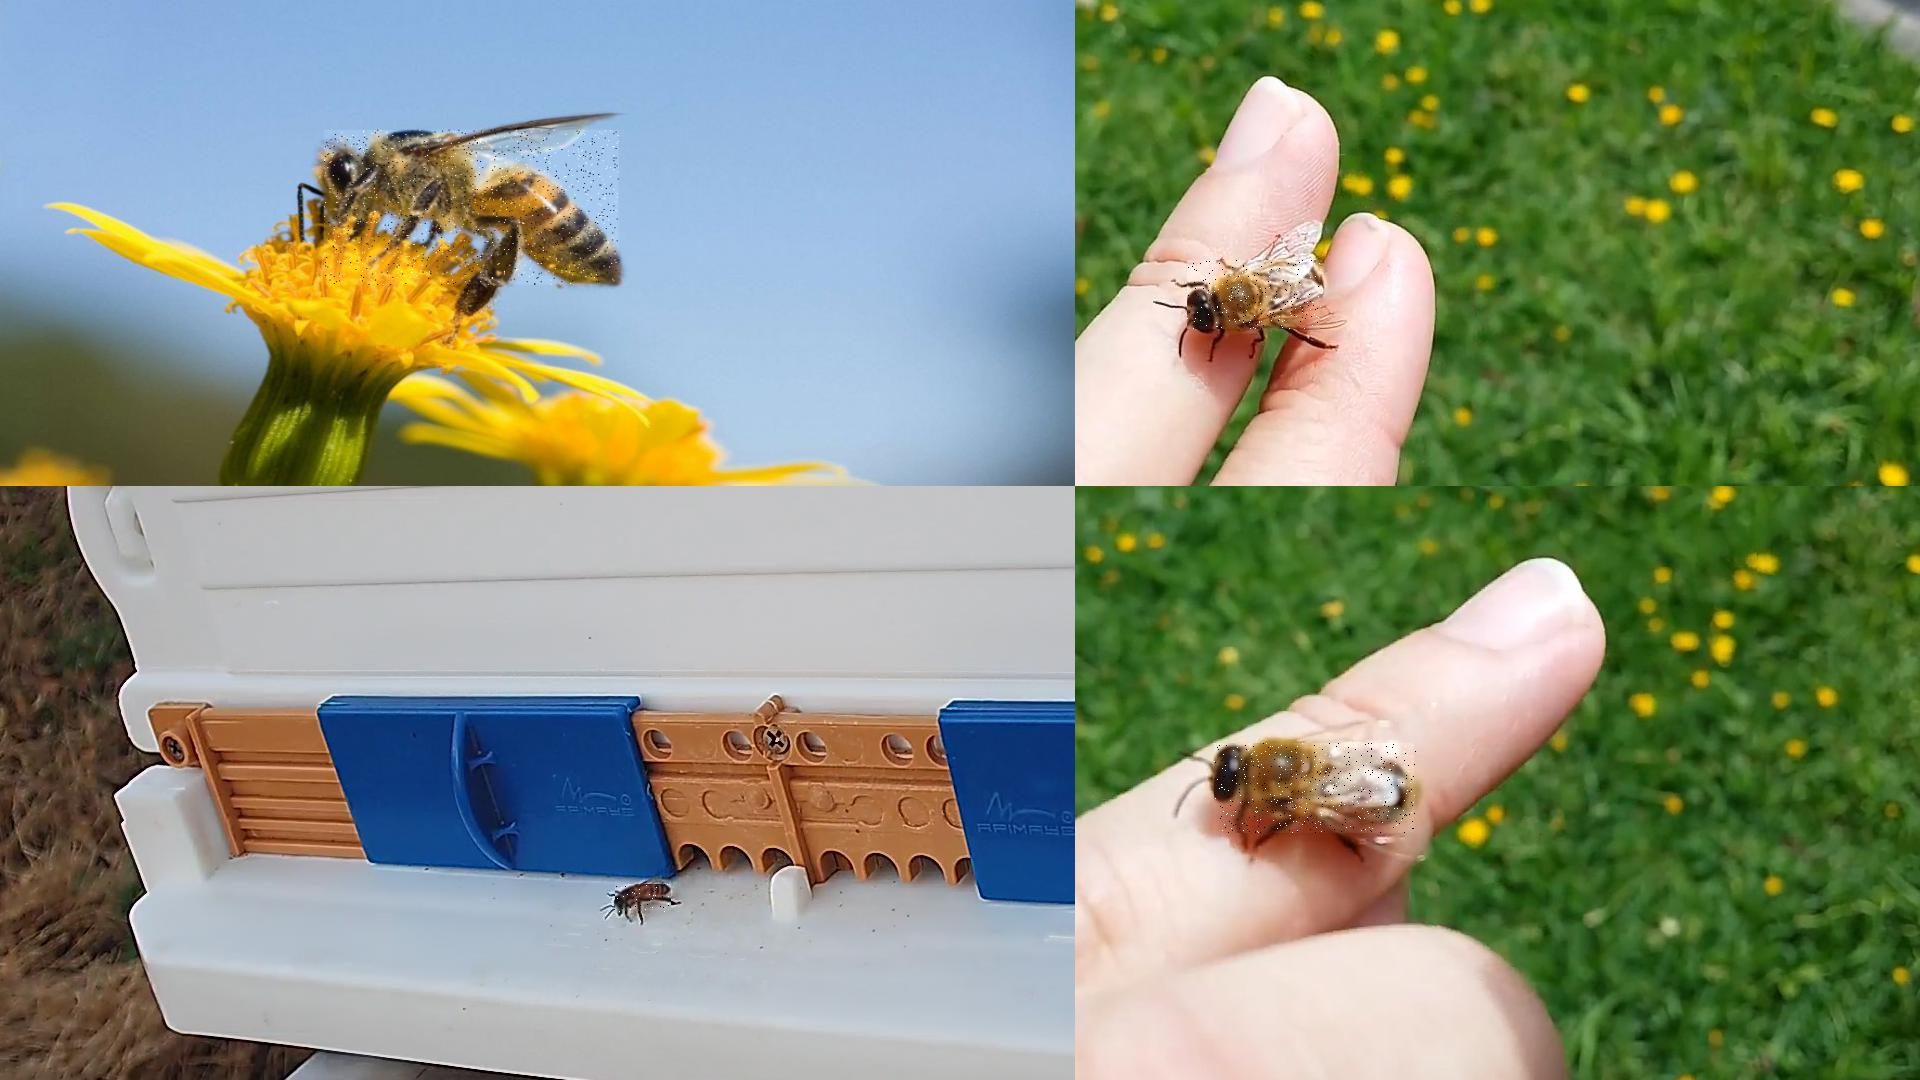bee: (324, 131, 620, 286), (616, 885, 673, 914)
drone: (1215, 744, 1418, 835), (1188, 260, 1323, 330)
